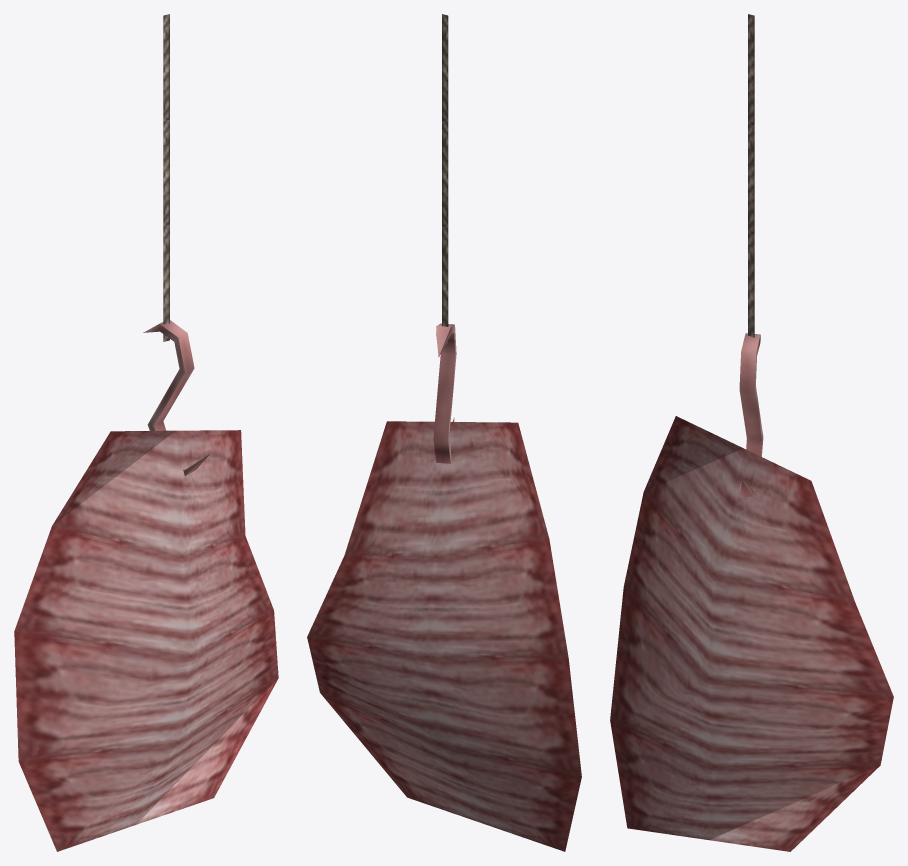
The model's file is ribs.fbx.
3 views of the same model, side by side, from view 1: azimuth 30°, elevation 25°; view 2: azimuth 150°, elevation 25°; view 3: azimuth 330°, elevation 25° (orthographic). The views are drawn at different scales.
Visible parts, largest first — view 1: rib, garlicString_garlicString_garlic, nurbsToPoly1; view 2: rib, nurbsToPoly1, garlicString_garlicString_garlic; view 3: rib, garlicString_garlicString_garlic, nurbsToPoly1.
Boxes of the visible parts, left/top/right/bottom form: rib: left=14, top=430, right=278, bottom=851; garlicString_garlicString_garlic: left=163, top=14, right=169, bottom=341; nurbsToPoly1: left=143, top=320, right=210, bottom=476; rib: left=307, top=421, right=581, bottom=851; nurbsToPoly1: left=433, top=323, right=456, bottom=463; garlicString_garlicString_garlic: left=442, top=14, right=448, bottom=344; rib: left=610, top=416, right=893, bottom=851; garlicString_garlicString_garlic: left=748, top=14, right=754, bottom=337; nurbsToPoly1: left=739, top=333, right=763, bottom=497.
Size of the model in its own units: 331 by 966 by 127.
Materials: 1 (1 with a texture image).
